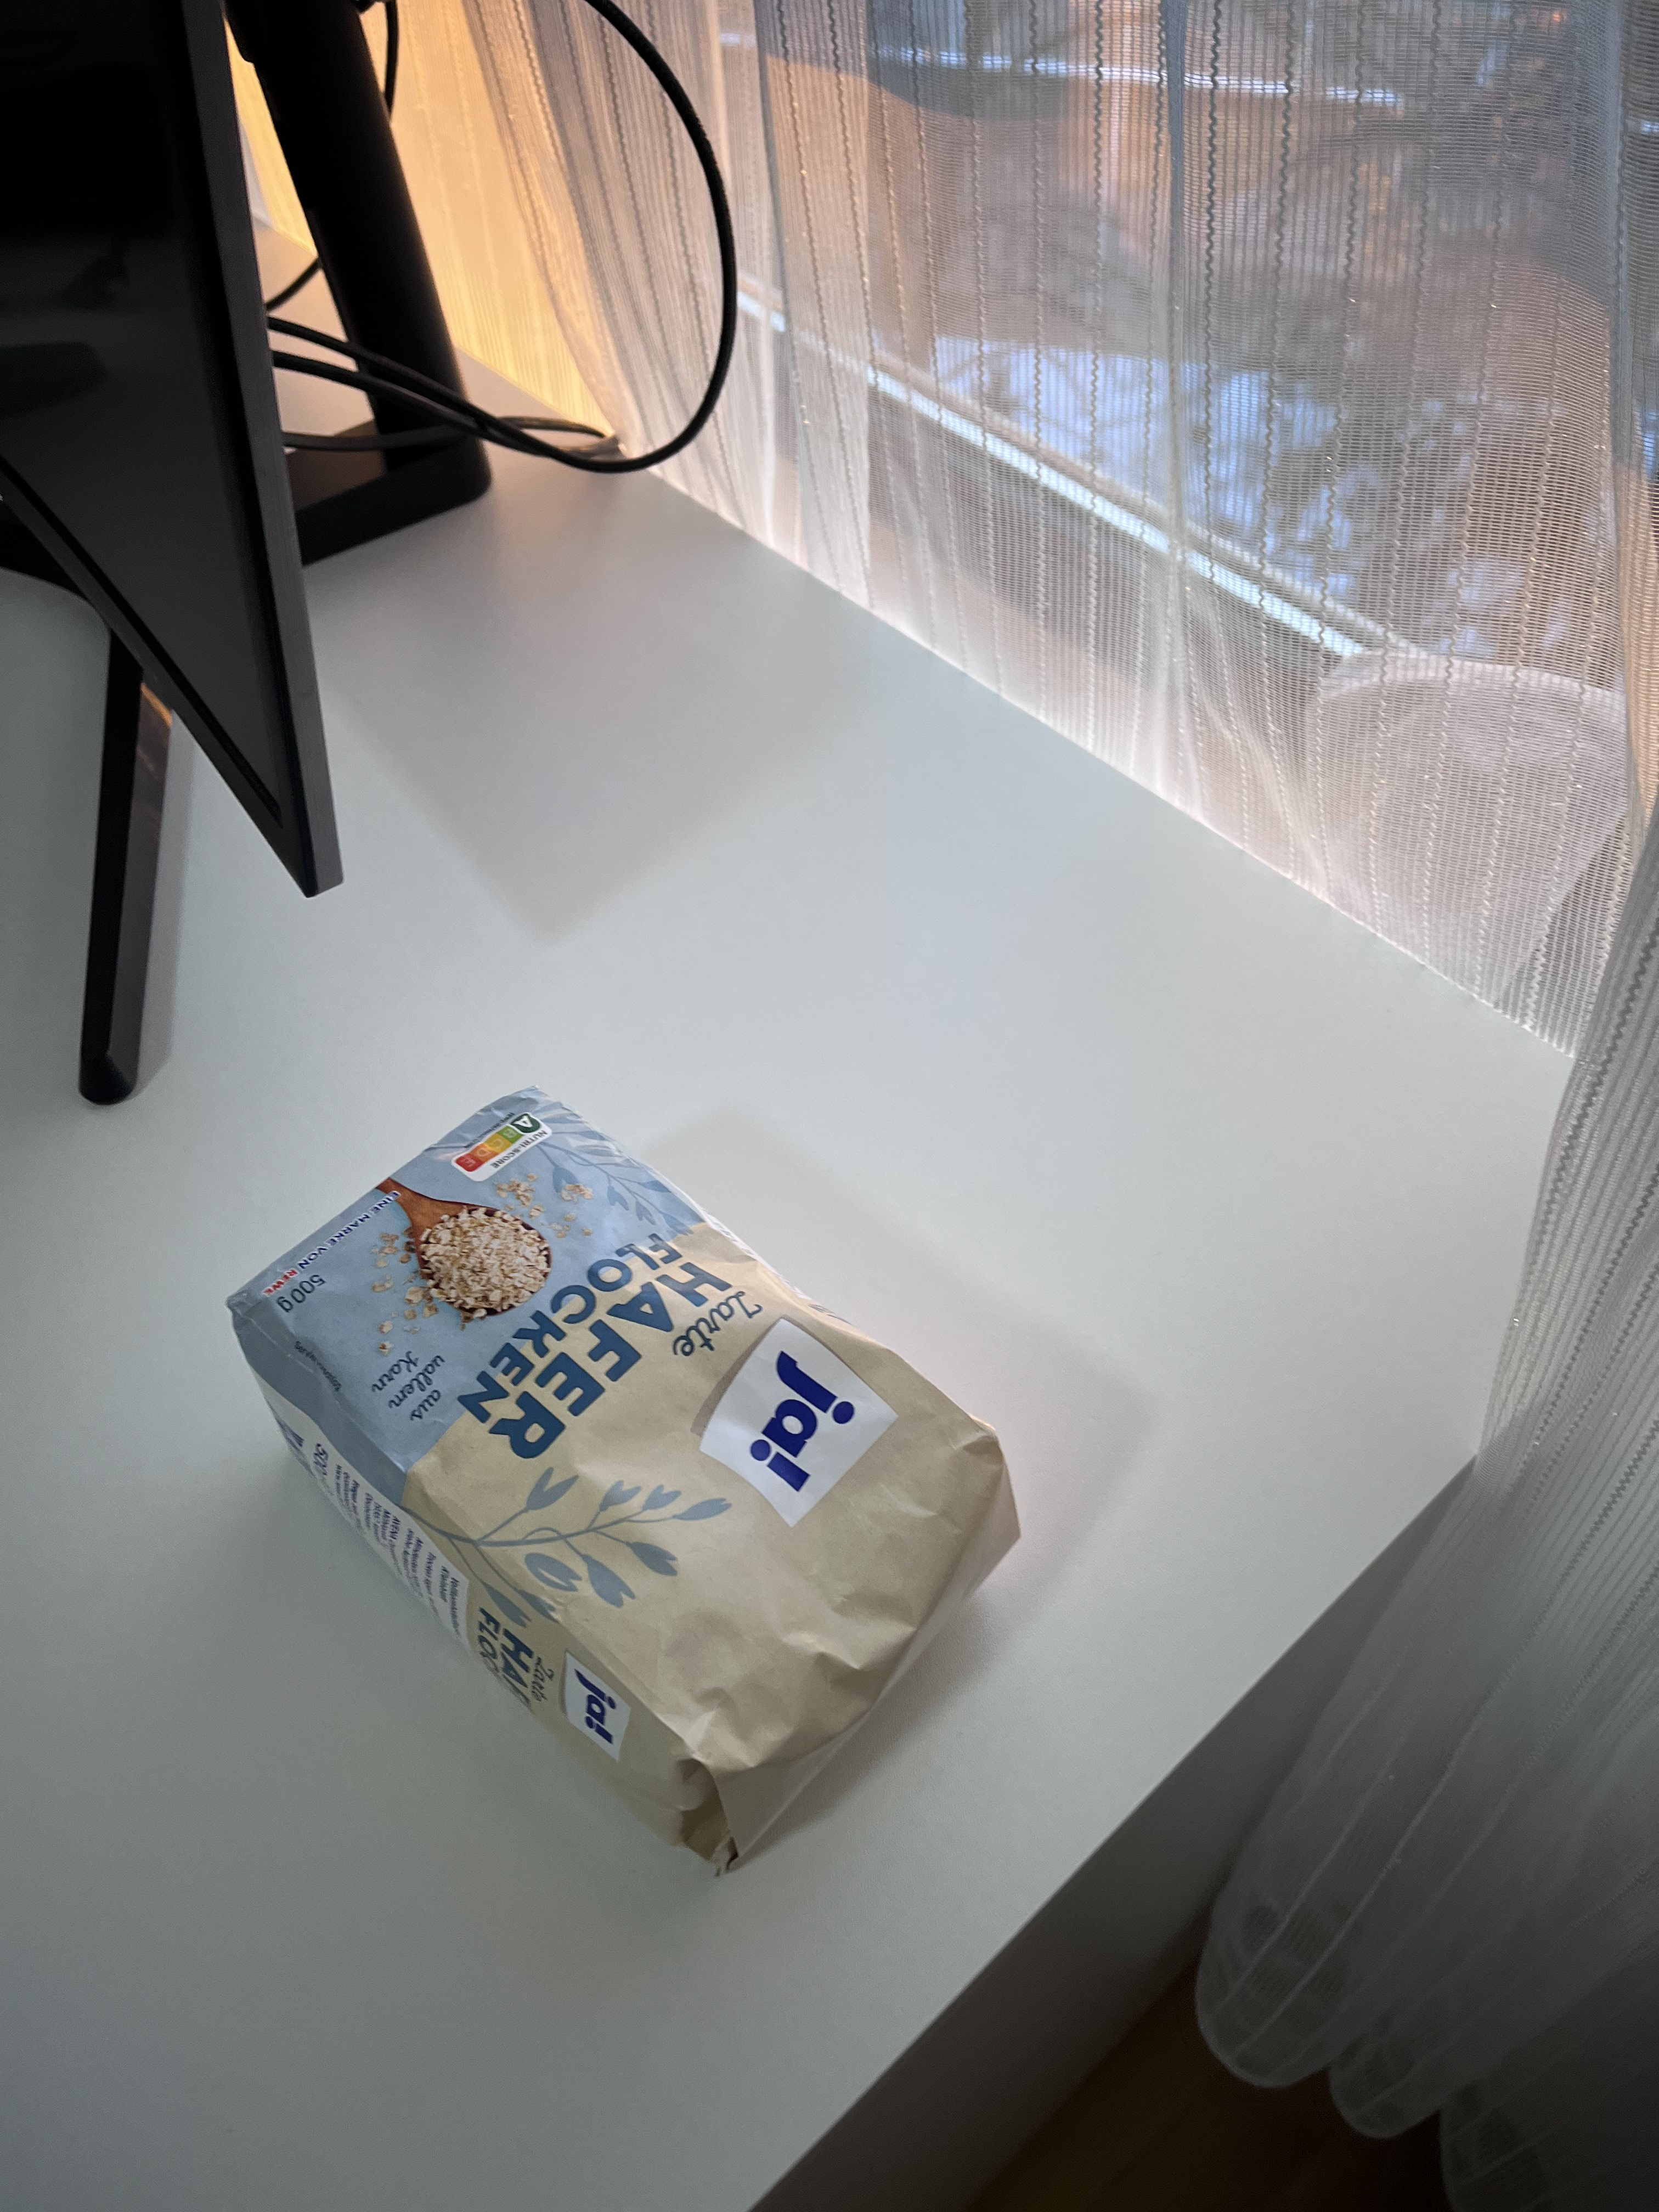haferflocken_ja: (223, 1085, 1023, 1871)
